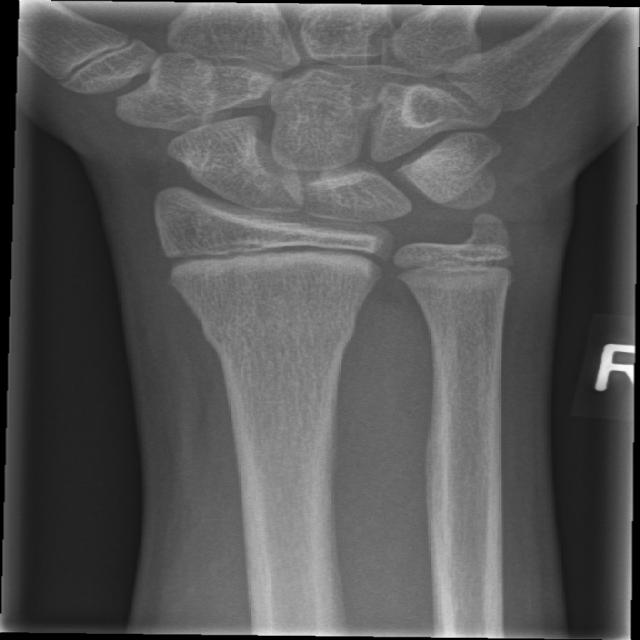radius fracture: (131, 286, 397, 408)
